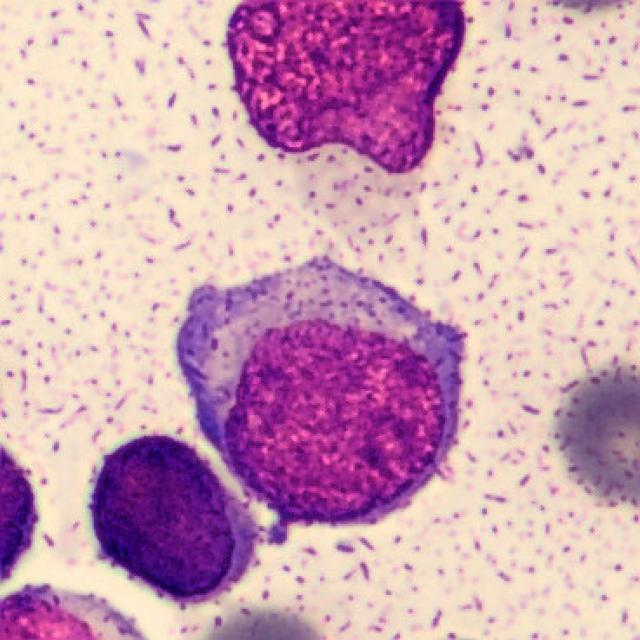Mieloblasto: (176, 261, 466, 531)
Restos celulares: (228, 0, 468, 175)
